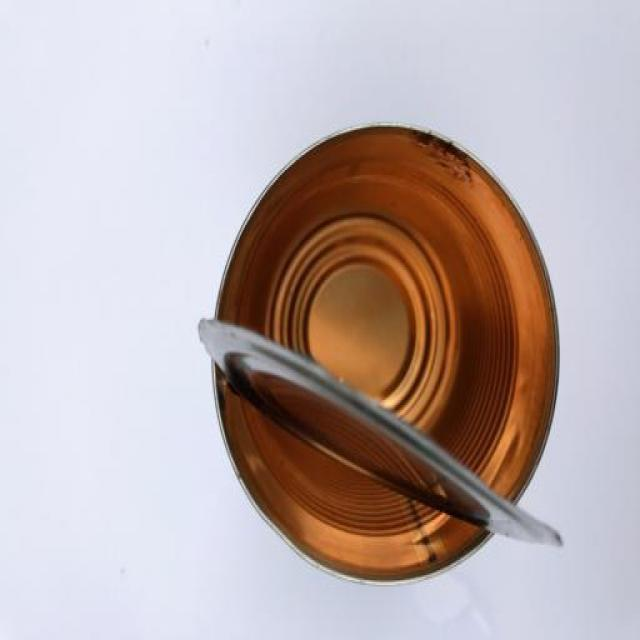metel: (174, 120, 595, 605)
